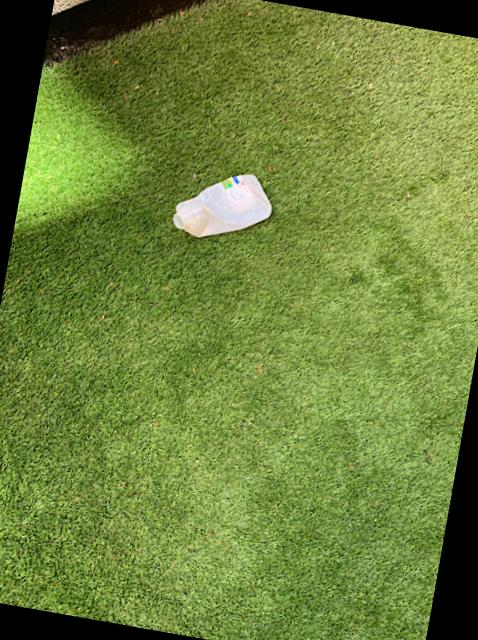plastic: (171, 172, 269, 234)
